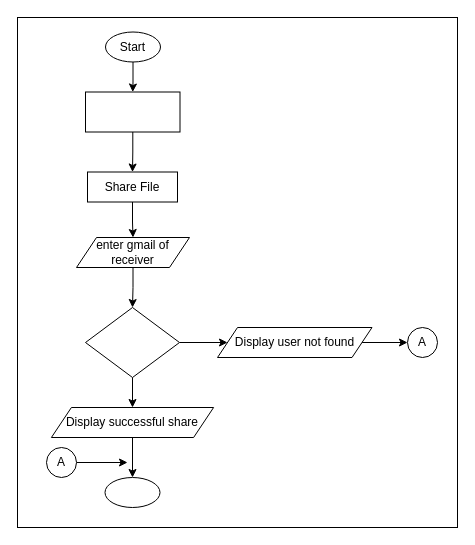
Image size: 475x545. Some labels were removed from this diagram. Here are the shapes that lost their labels. From the top down, the centre of each, then its label:
At point (132, 111): "Access Web Application".
At point (132, 342): "user found in database ?".
At point (132, 492): "End".
